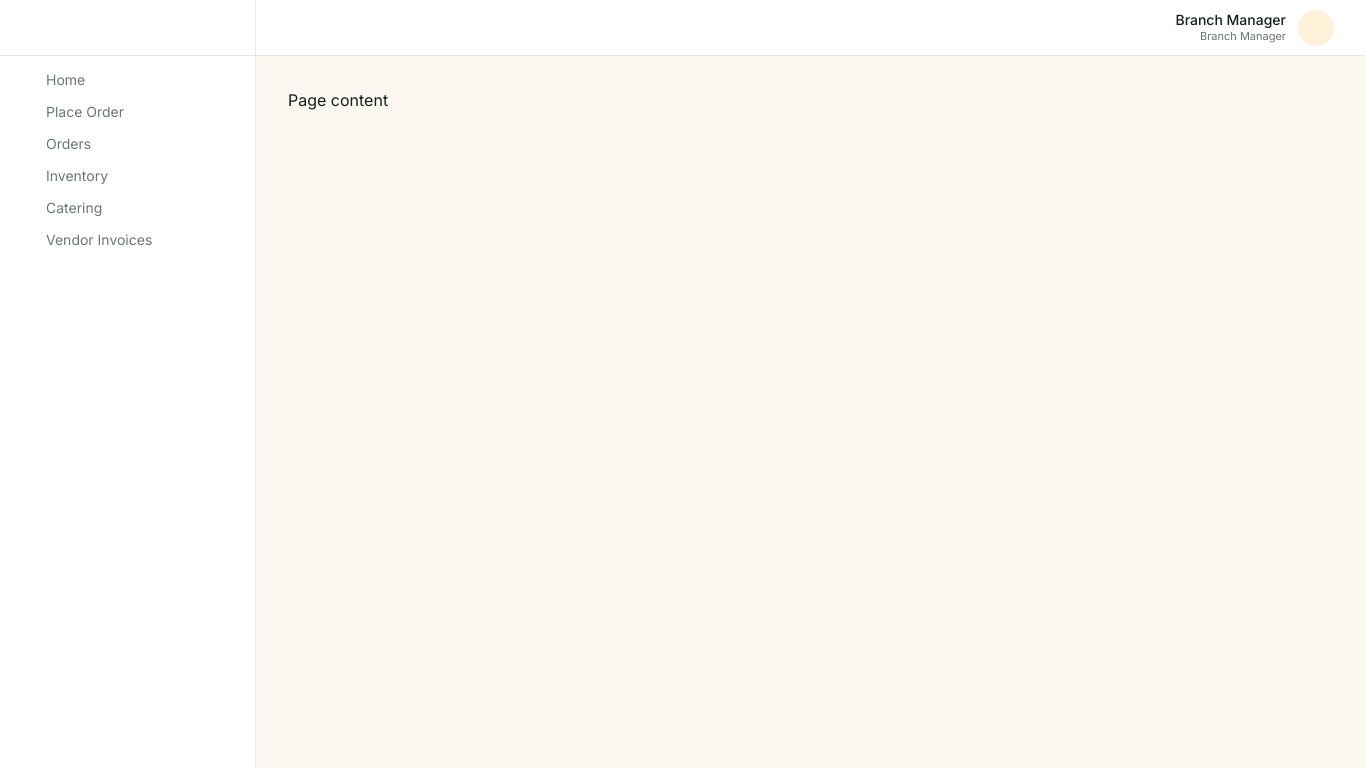
Test case: puts profile and sign out in the header menu, never in navigation
The image size is (1366, 768).
Expected: the text "Page content" is shown, [288,90,388,110]
Press the mouse on the button named "Account menu for" at (1316, 28), box [1298,10,1334,46]
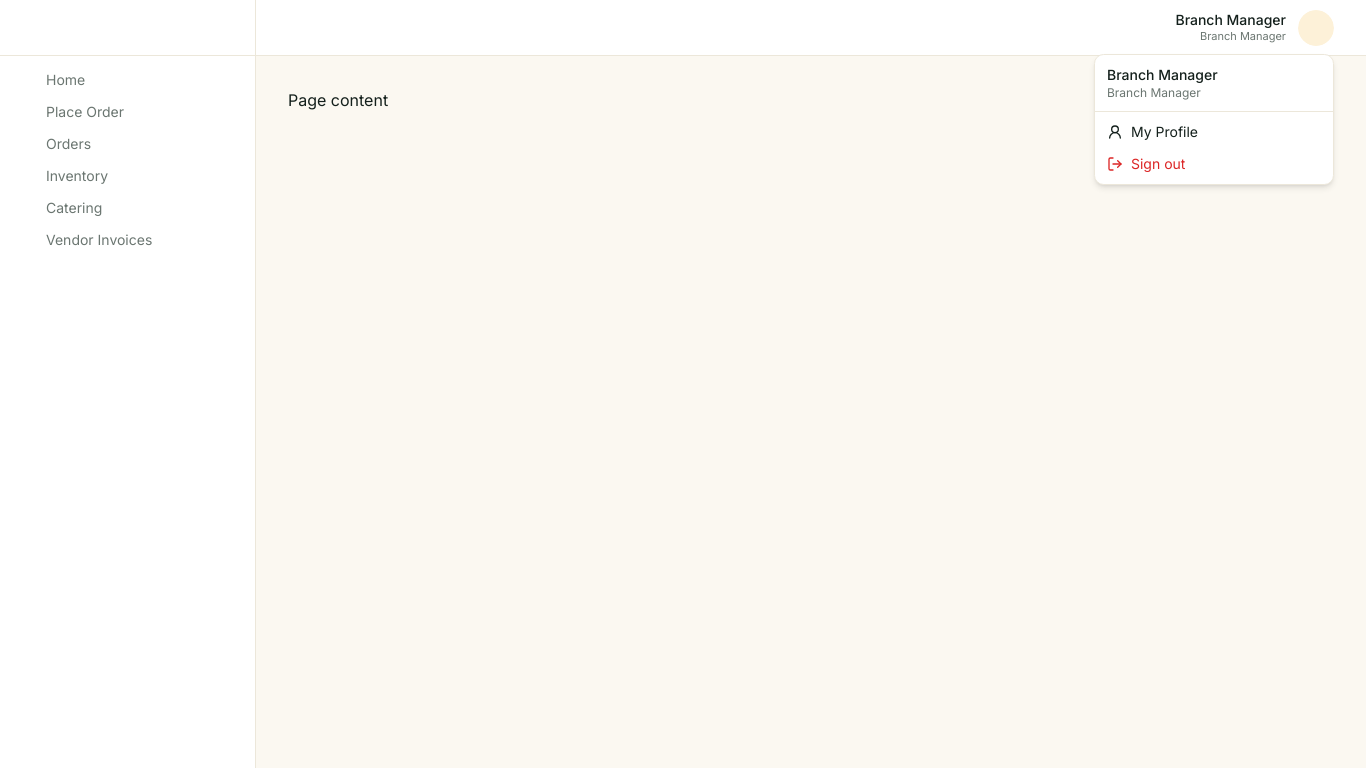
Result: the menu item "Sign out" is shown at [1107,155,1185,172]
